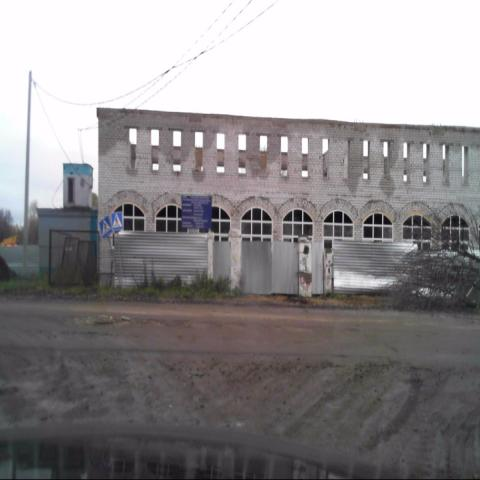5_19_1: (99, 216, 111, 238), (111, 212, 122, 231)
